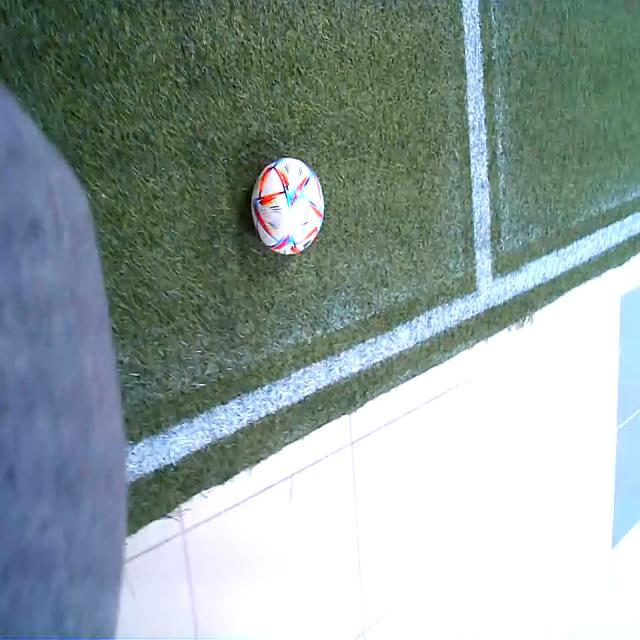ball: (254, 156, 324, 255)
